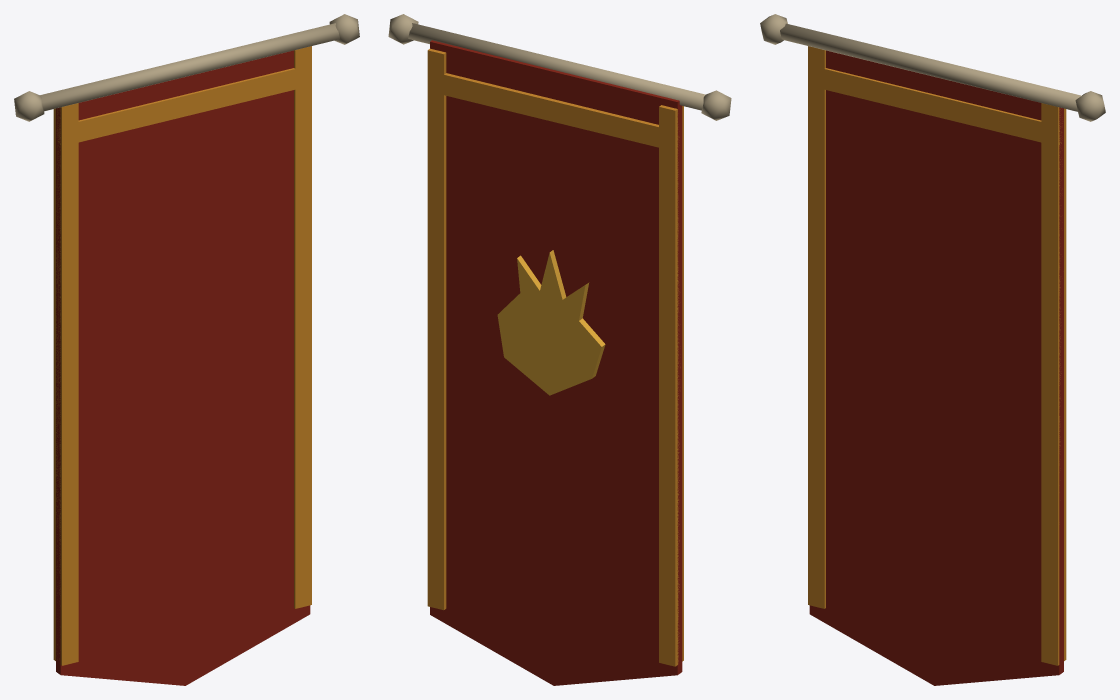
The model's file is molten_legion_flag_v0.glb.
3 renders of one model, left to right at view 1: azimuth 30°, elevation 25°; view 2: azimuth 150°, elevation 25°; view 3: azimuth 330°, elevation 25°, orthographic.
Parts seen in each view (by area): view 1: molten_legion_flag_v0; view 2: molten_legion_flag_v0; view 3: molten_legion_flag_v0.
Boxes of the visible parts, x1=… form: molten_legion_flag_v0: x1=14, y1=14, x2=359, y2=685; molten_legion_flag_v0: x1=388, y1=14, x2=731, y2=685; molten_legion_flag_v0: x1=760, y1=14, x2=1105, y2=685.
Bounding box in the file's own units: 1.04 × 1.84 × 0.0933.
